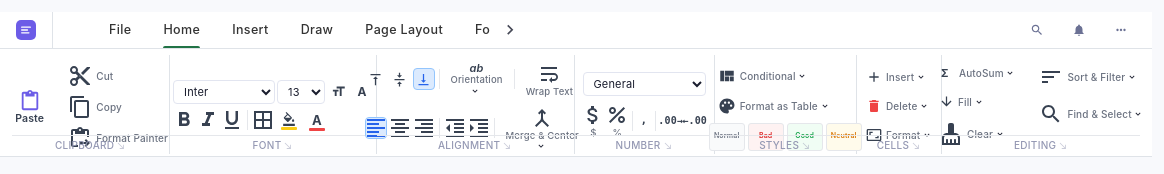
Test: Editing Group Dropdowns › Find & Select dropdown shows Find, Replace, Go To
Click the button "Find & Select": x=1091, y=114 [1030,98,1152,130]
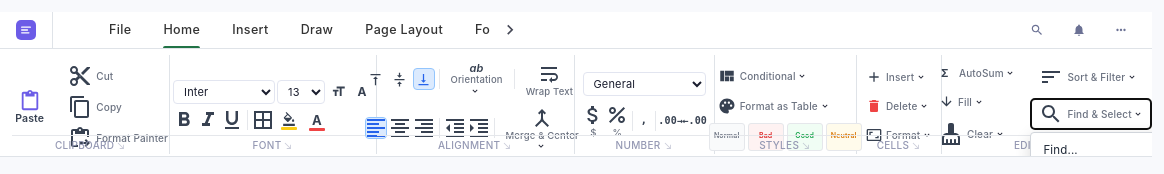
Result: the text "Find..." is shown at [1043,142,1078,156]
